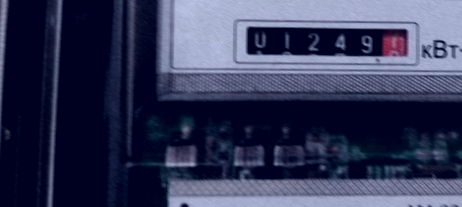0: (254, 27, 268, 47)
1: (280, 27, 293, 48)
2: (305, 29, 322, 51)
4: (334, 29, 348, 49)
7: (389, 27, 402, 47)
9: (360, 31, 374, 53)
screen: (231, 14, 423, 66)
